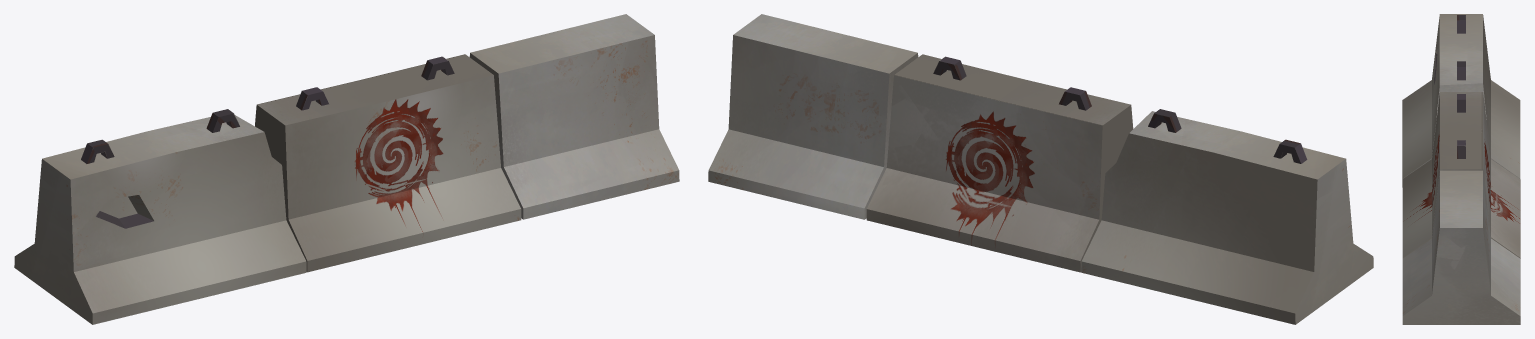
The model's file is mesh_barricade_concrete.fbx.
3 views of the same model, side by side, from view 1: azimuth 30°, elevation 25°; view 2: azimuth 150°, elevation 25°; view 3: azimuth 270°, elevation 25° (orthographic). The views are drawn at different scales.
Parts seen in each view (by area): view 1: barricade_concrete; view 2: barricade_concrete; view 3: barricade_concrete.
Boxes of the visible parts, bbox=[...] form: barricade_concrete: bbox=[14, 14, 679, 324]; barricade_concrete: bbox=[708, 14, 1373, 324]; barricade_concrete: bbox=[1402, 14, 1520, 324].
Size of the model in its own units: 11.11 by 2.57 by 2.56.
